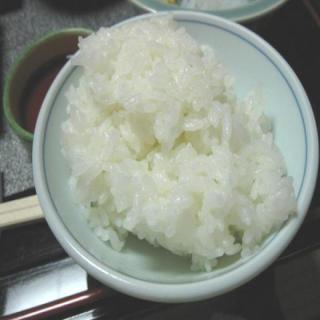Nasi: (59, 12, 299, 275)
